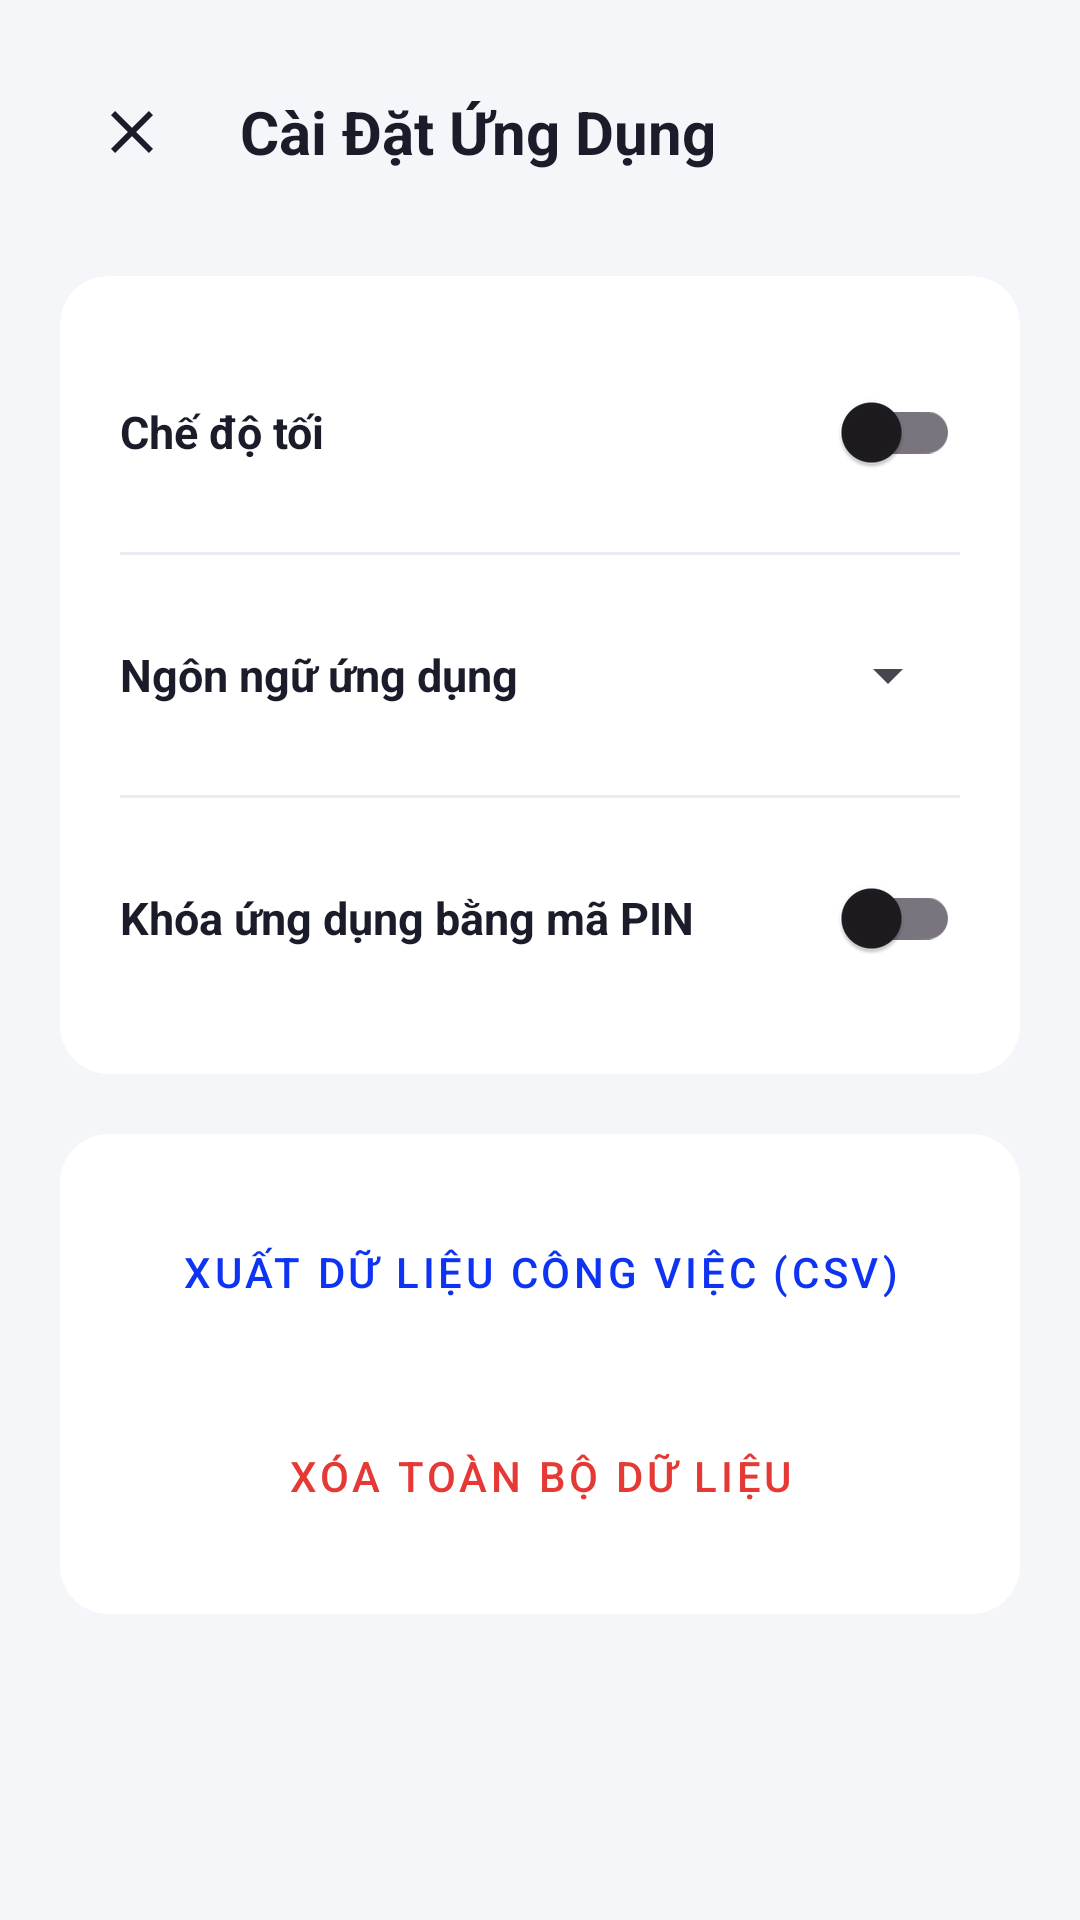

Named icons in this screenshot (1080w x 1920h) and their bounding boxes, {"left": x1, "top": y1, "right": x2, "bottom": y2}:
Close: {"left": 111, "top": 111, "right": 153, "bottom": 153}
